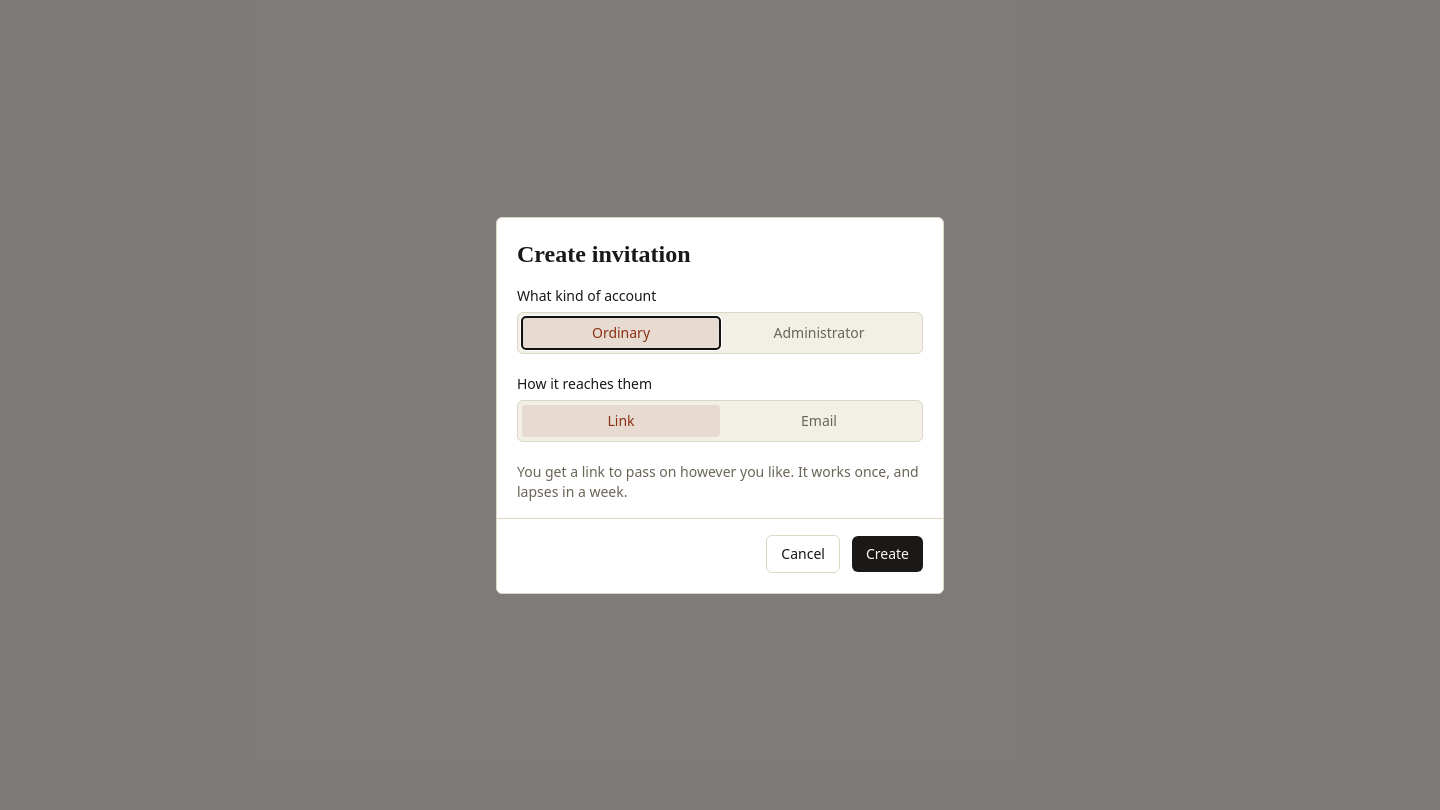
Test case: InviteDialog › hands back the link when the invitation is one to pass on
This screenshot has width=1440, height=810.
Click the button "Create".
click(887, 554)  # box [852, 536, 923, 572]
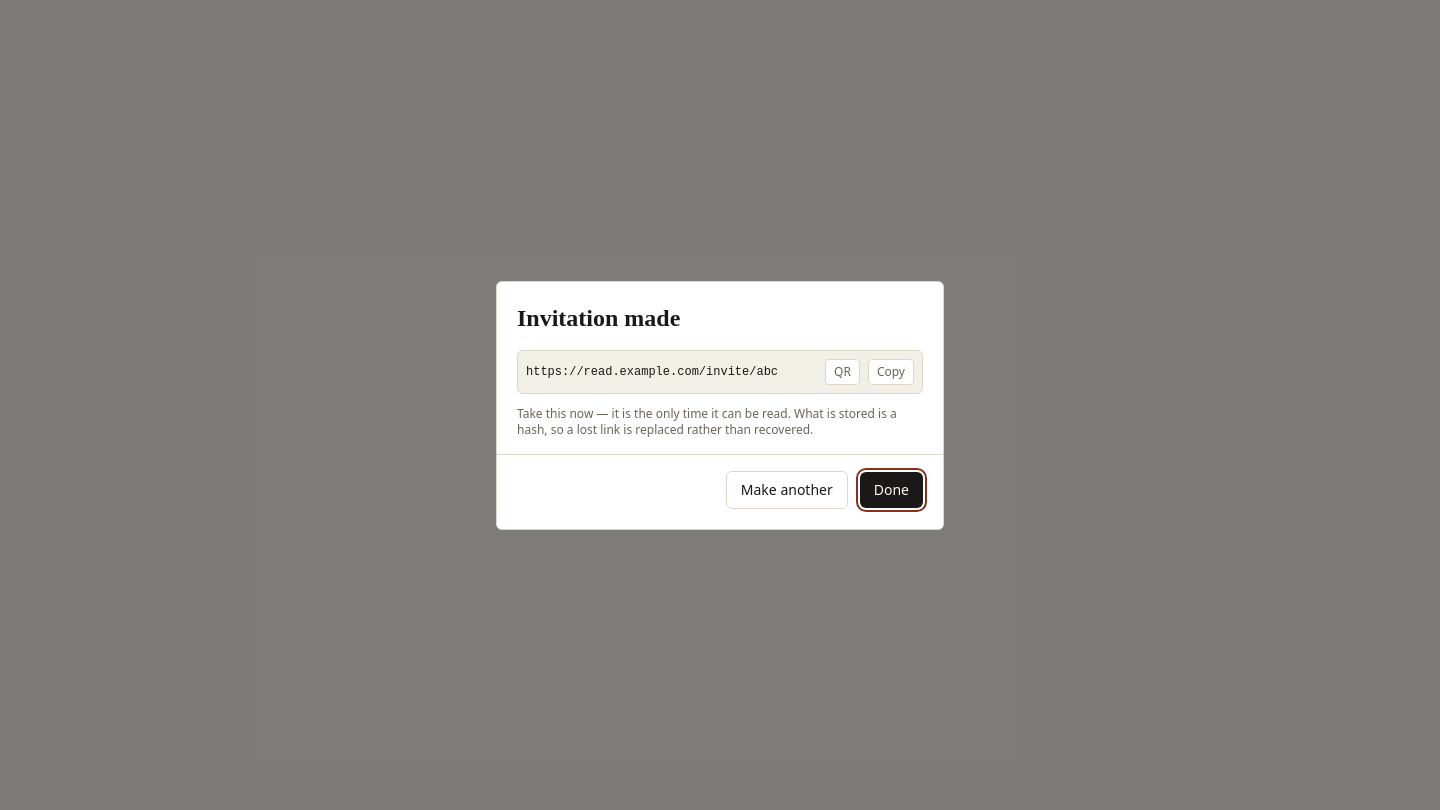
Expected: the text "https://read.example.com/invite/abc" is shown, [526, 364, 817, 380]
